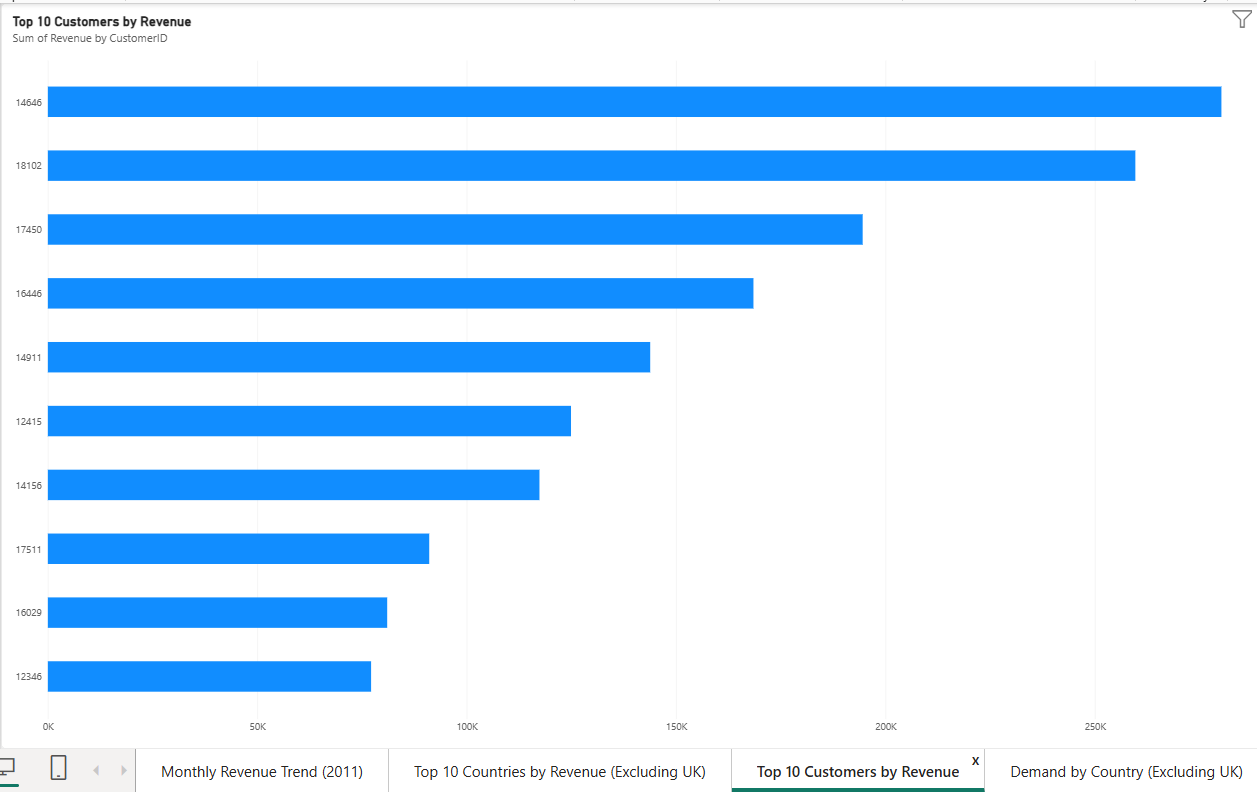

This screenshot's page, from the dashboard's own definition file:
{"tool":"powerbi","page":{"name":"Top 10 Customers by Revenue ","canvas":[1920,1080],"ordinal":2},"visuals":[{"type":"clusteredBarChart","title":"Top 10 Customers by Revenue ","fields":{"Category":["Online Retail Data Set.CustomerID"],"Y":["Sum(Online Retail Data Set.Revenue)"]},"box":[0,0,1920.1,1080.4],"z":0}]}

Visuals, with their boxes on the page's 1920x1080 design canvas (x1, y1, x2, y2). These are canvas units, not pixel positions in the 1257x792 screenshot, which may show the page scaled, cropped or inside an application window:
"Top 10 Customers by Revenue " clusteredBarChart: detection(0, 0, 1920, 1080)
